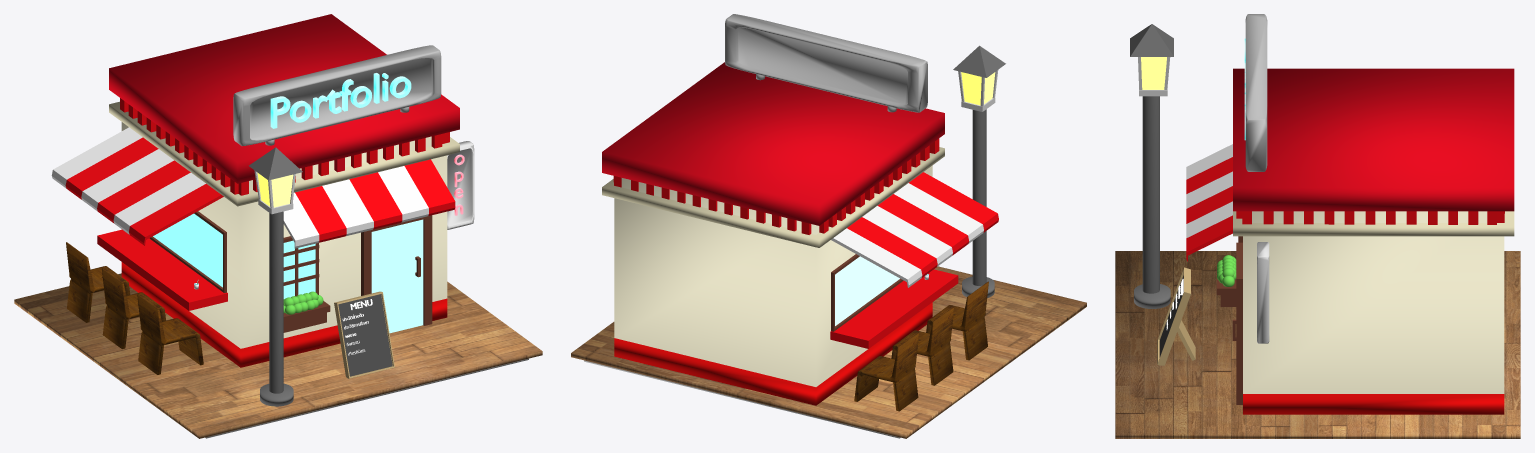
3 renders of one model, left to right at view 1: azimuth 30°, elevation 25°; view 2: azimuth 150°, elevation 25°; view 3: azimuth 270°, elevation 25°, orthographic. The views are drawn at different scales.
Parts seen in each view (by area): view 1: Plane, Plane.004, Plane.001, Cube.071, Cube.001, Cube.065, Plane.007, Cube.006, Plane.005, Plane.010, Cylinder.004, Cube.005 (+14 smaller); view 2: Plane.001, Plane.004, Plane, Cube.001, Cube.071, Plane.005, Cube.006, Cube.004, Plane.011, Cylinder.004, Cube.007, Cube.005 (+4 smaller); view 3: Plane.001, Plane.004, Plane, Cube.065, Plane.005, Cube.001, Cylinder.004, Cube.063, Cube.002, Cube.009, Plane.006, Cube (+2 smaller).
Part boxes in pixels (box(x1,y1,x2,y2)): Plane: box(14, 273, 542, 438); Plane.004: box(109, 14, 459, 183); Plane.001: box(121, 122, 447, 367); Cube.071: box(51, 127, 223, 245); Cube.001: box(233, 45, 441, 145); Cube.065: box(283, 159, 455, 248); Plane.007: box(371, 219, 423, 333); Cube.006: box(97, 229, 227, 310); Plane.005: box(109, 101, 459, 206); Plane.010: box(338, 294, 392, 376); Cylinder.004: box(269, 211, 283, 393); Cube.005: box(137, 294, 203, 374); Plane.001: box(614, 165, 932, 405); Plane.004: box(602, 62, 944, 225); Plane: box(571, 266, 1086, 438); Cube.001: box(725, 14, 927, 112); Cube.071: box(831, 172, 998, 287); Plane.005: box(602, 147, 944, 247); Cube.006: box(830, 269, 958, 348); Cube.004: box(854, 332, 919, 411); Plane.011: box(835, 256, 899, 325); Cylinder.004: box(972, 109, 986, 285); Cube.007: box(891, 307, 954, 385); Cube.005: box(926, 281, 988, 360); Plane.001: box(1243, 211, 1504, 414); Plane.004: box(1233, 68, 1514, 211); Plane: box(1115, 251, 1520, 438); Cube.065: box(1186, 144, 1232, 261); Plane.005: box(1233, 211, 1514, 236); Cube.001: box(1245, 14, 1267, 171); Cylinder.004: box(1142, 96, 1159, 293); Cube.063: box(1257, 242, 1269, 343); Cube.002: box(1130, 24, 1173, 56); Cube.009: box(1236, 242, 1242, 404); Plane.006: box(1157, 267, 1190, 365); Cube: box(1141, 57, 1166, 89).
Size of the model in its own units: 9.24 by 7.07 by 8.62.
39 materials, 4 textured.
